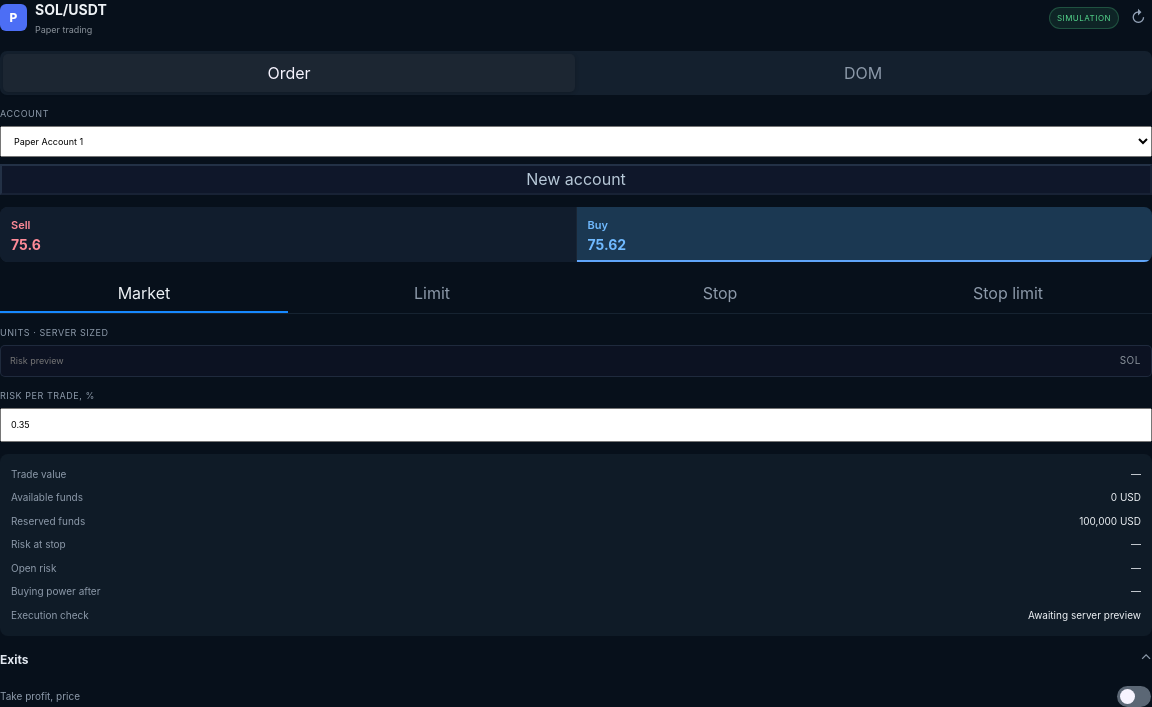
TradingPaperPanel › warns when a stop or stop-limit is already through the market
The width and height of the screenshot is (1152, 707).
Click the tab "Stop" at [720, 294], box [576,274,864,313]
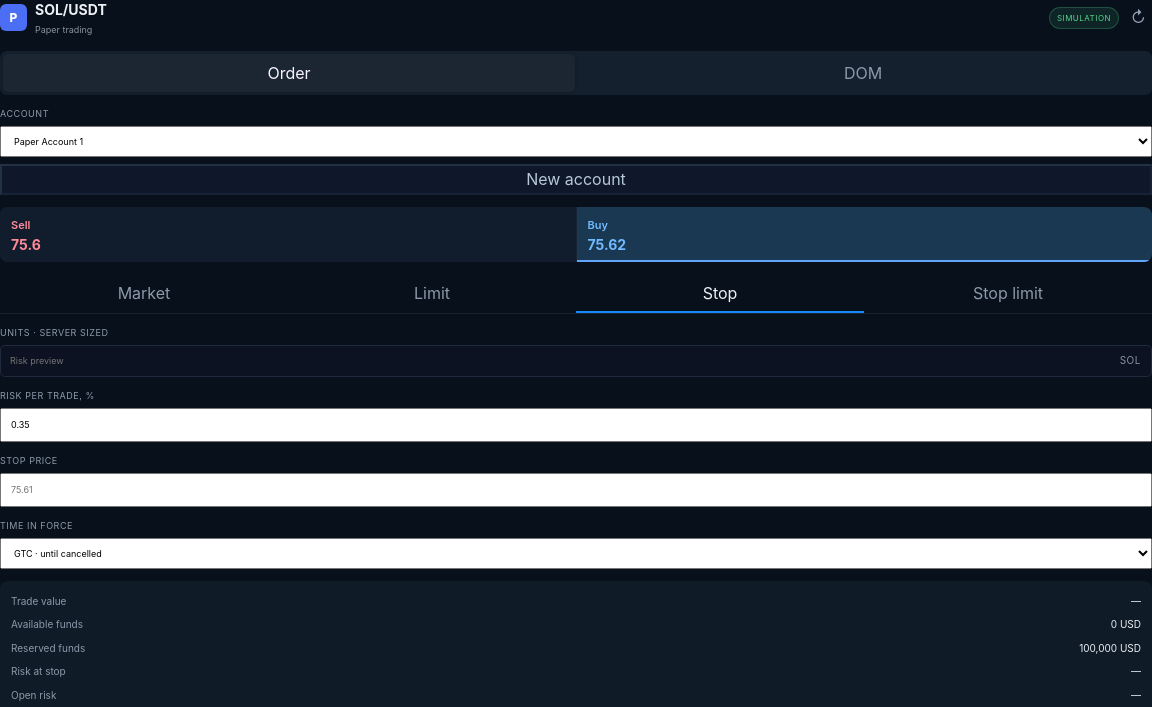
Type "76" into the field labelled "Stop price" at [576, 490], box [0,473,1151,507]
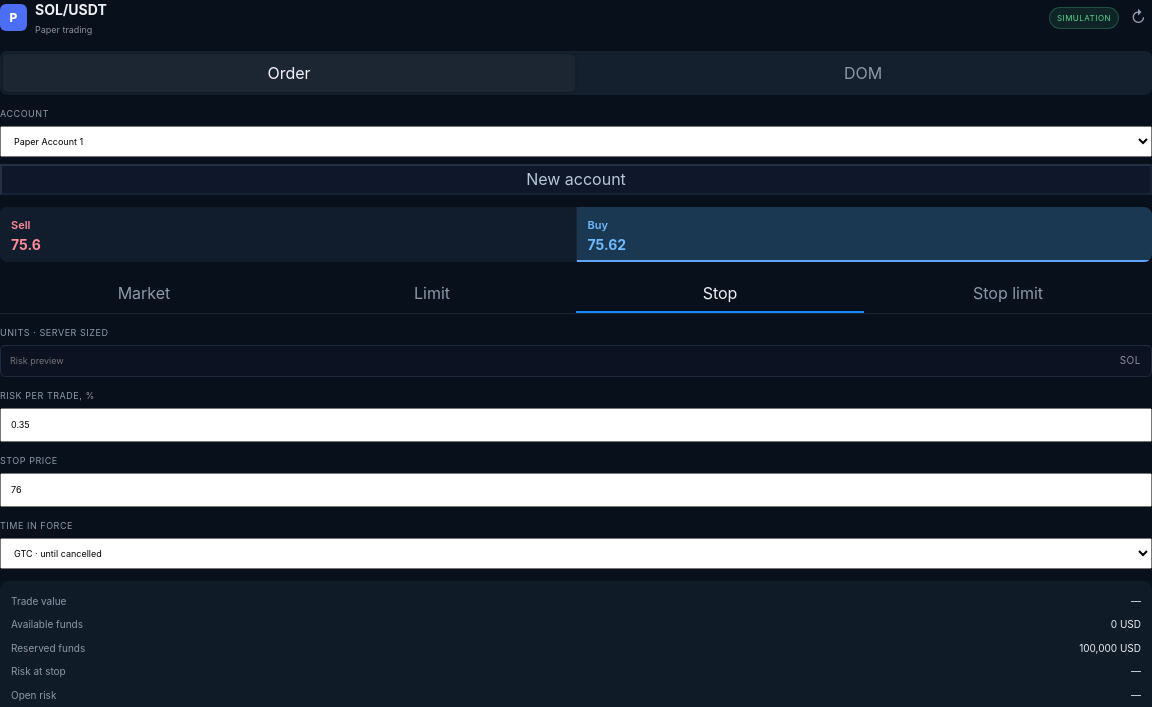
Replace the text in the field labelled "Stop price" with "75" at [576, 490], box [0,473,1151,507]
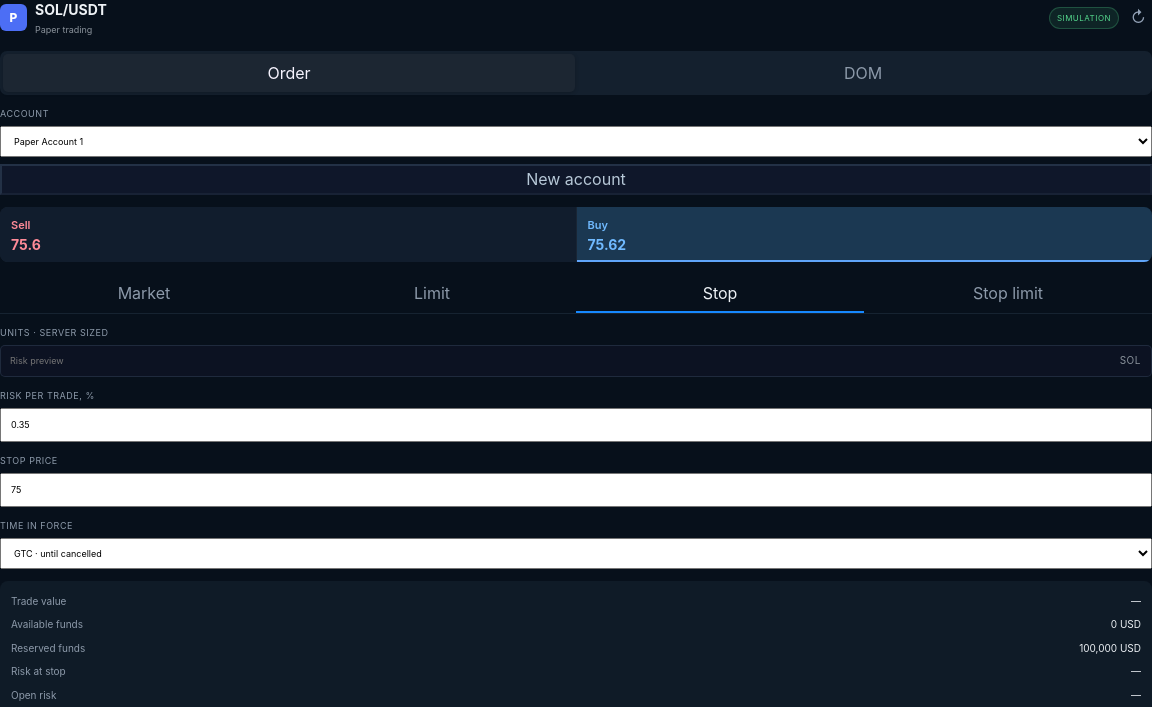
Click the tab "Stop limit" at [1008, 294], box [864,274,1151,313]
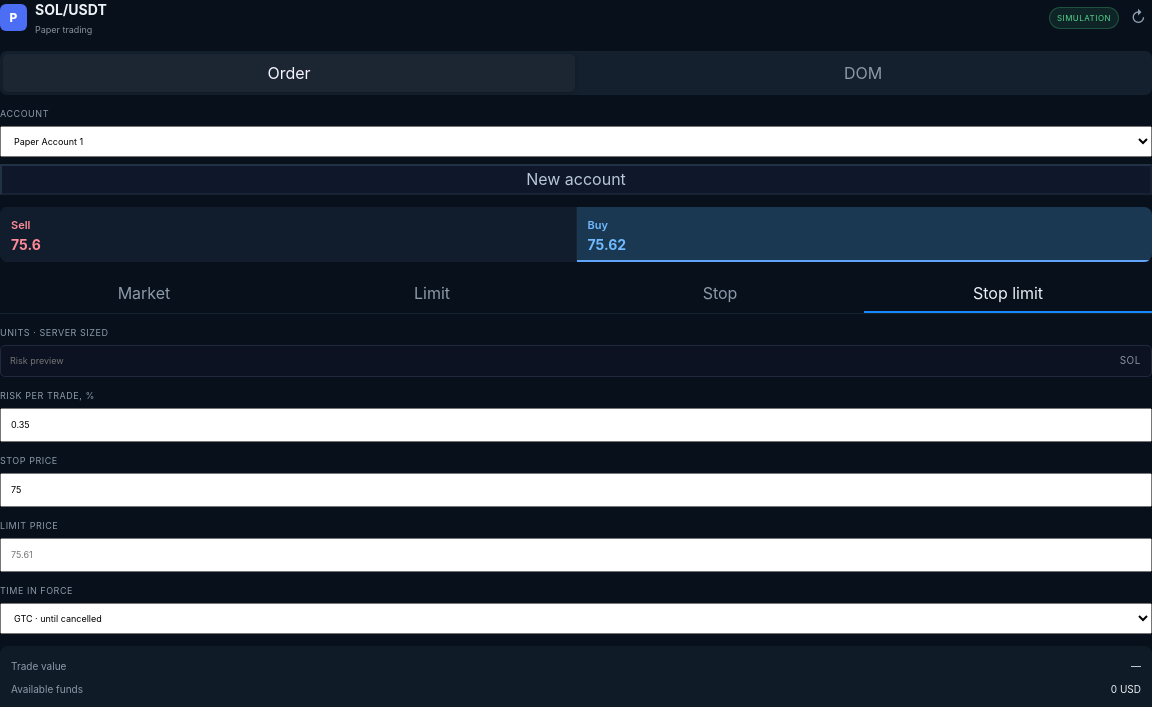
Click the button "Sell 75.6" at [21, 225], box [0,207,576,262]
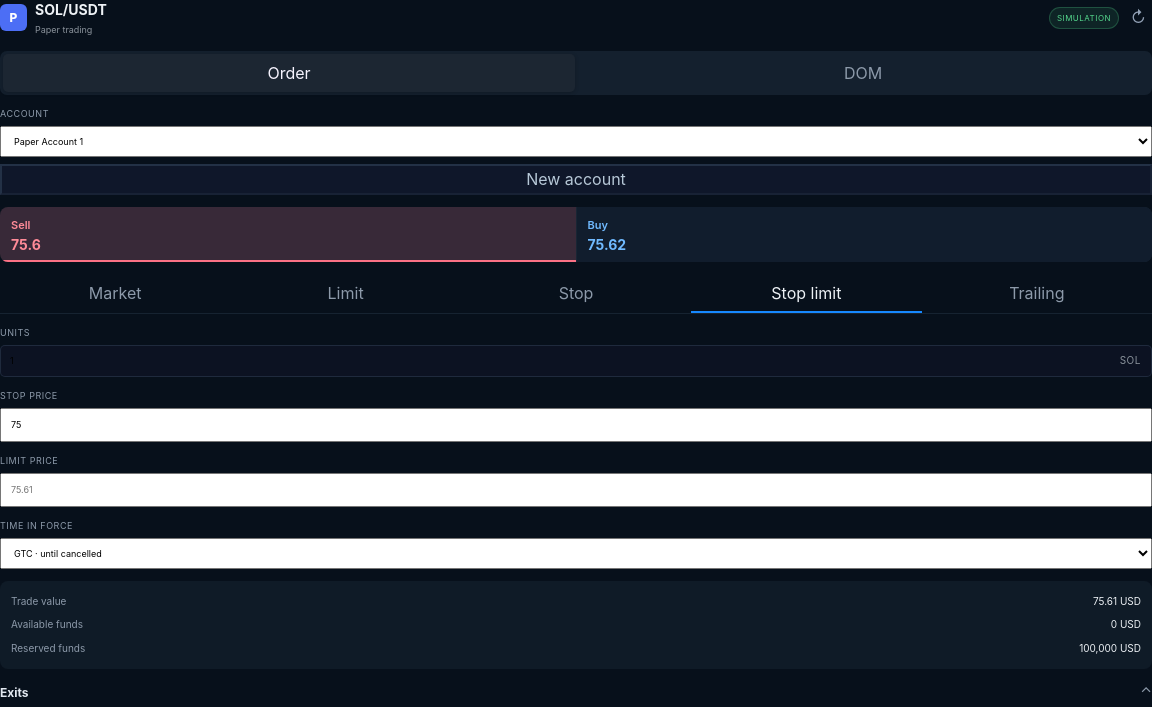
Replace the text in the field labelled "Stop price" with "76" at [576, 425], box [0,408,1151,442]
(page scrolled)
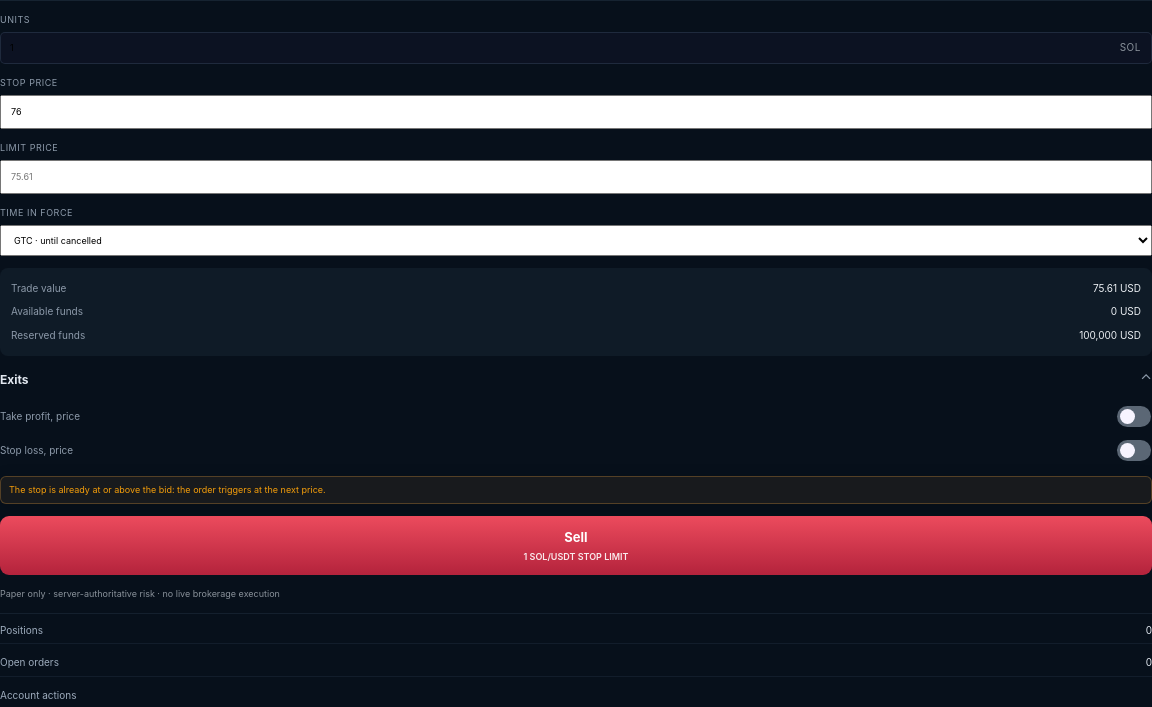
Now the text "The stop is already at or above the bid" is shown, box [0,476,1151,504]
